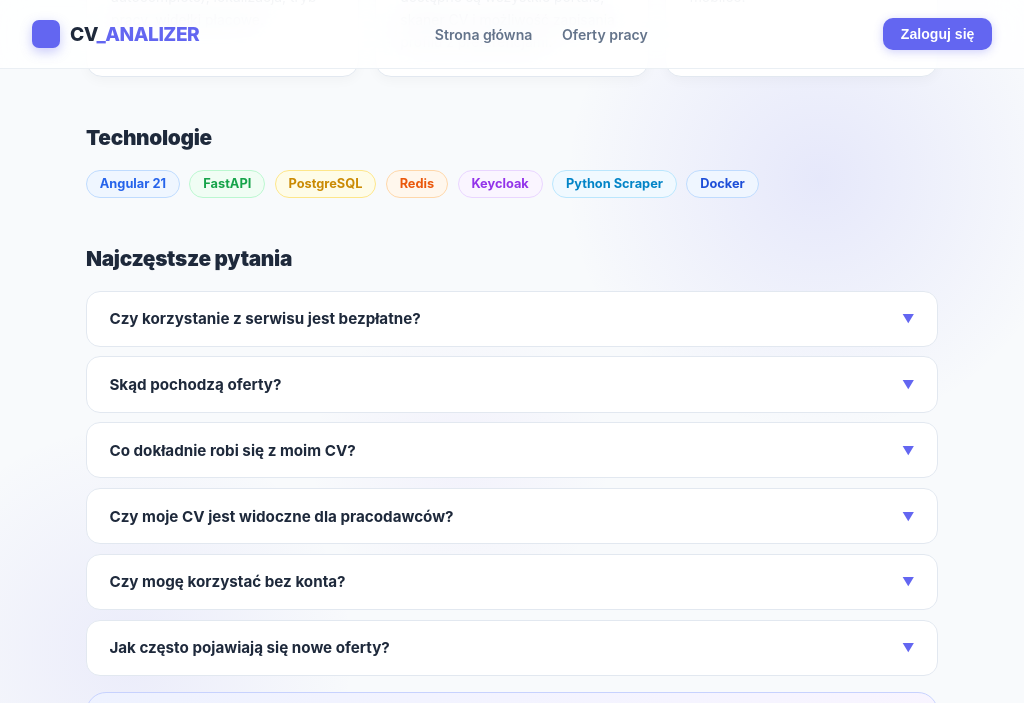
LegalComponent › should toggle faq items
(page scrolled)
Click the button with class "faq-question" showing "Skąd pochodzą oferty? ▼" at (195, 385), box [87,358,937,412]
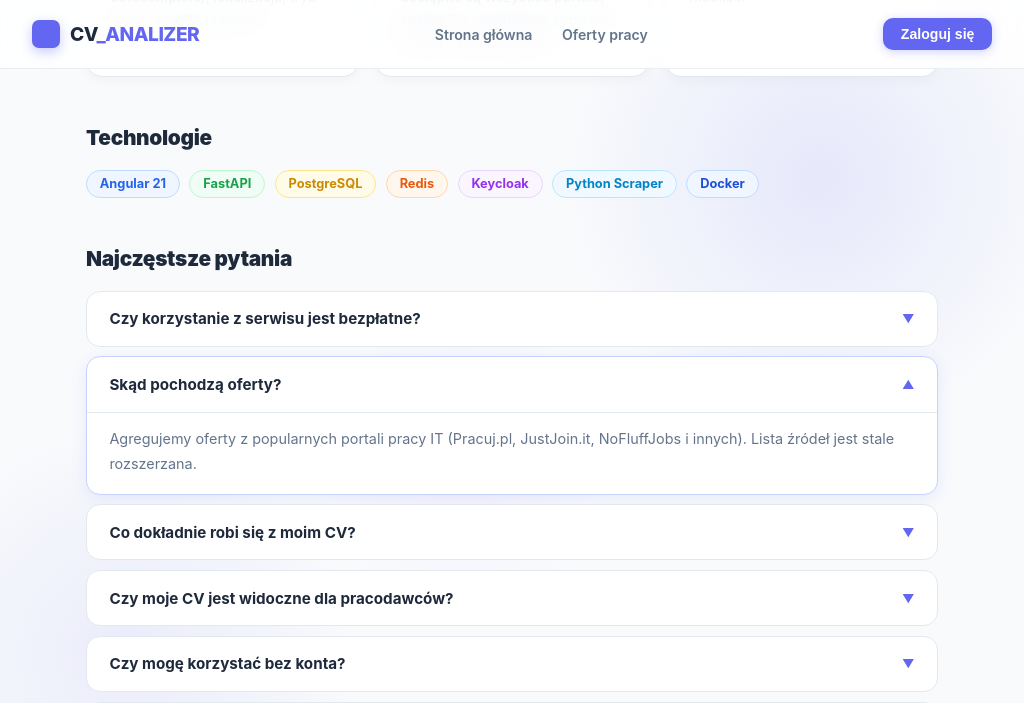
Result: the number of elements with class "faq-answer" is 1 at [87,412,937,494]
Click the button with class "faq-question" showing "Skąd pochodzą oferty? ▲" at (195, 385), box [87,358,937,412]
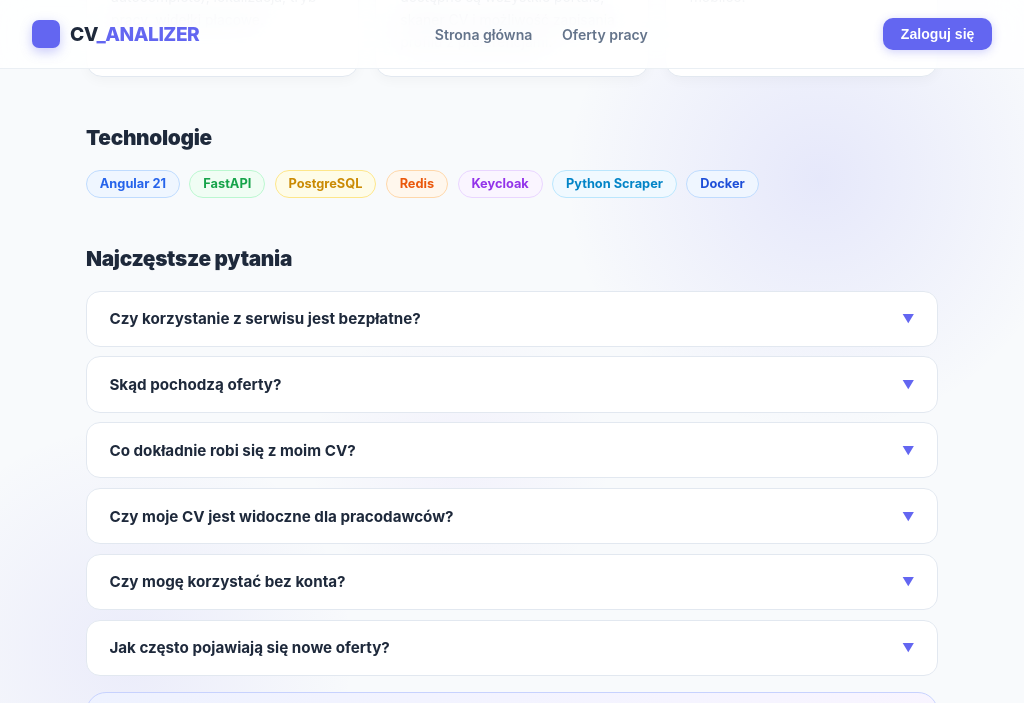
Result: no elements with class "faq-answer" are shown
